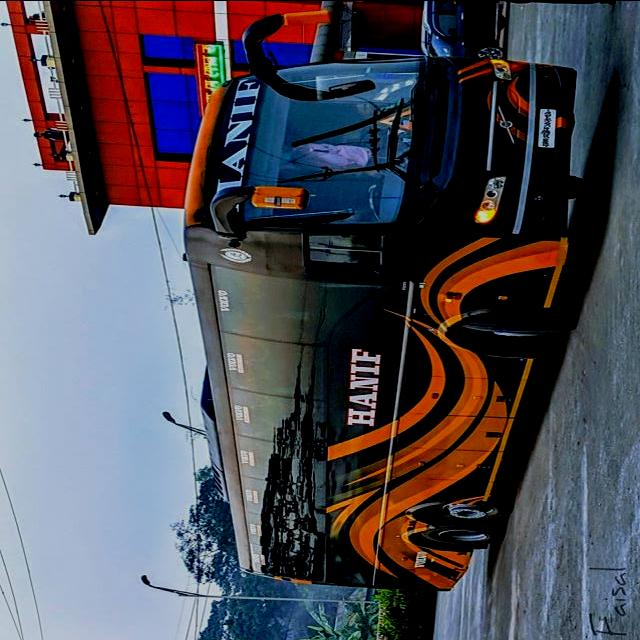bus: (184, 10, 588, 595)
